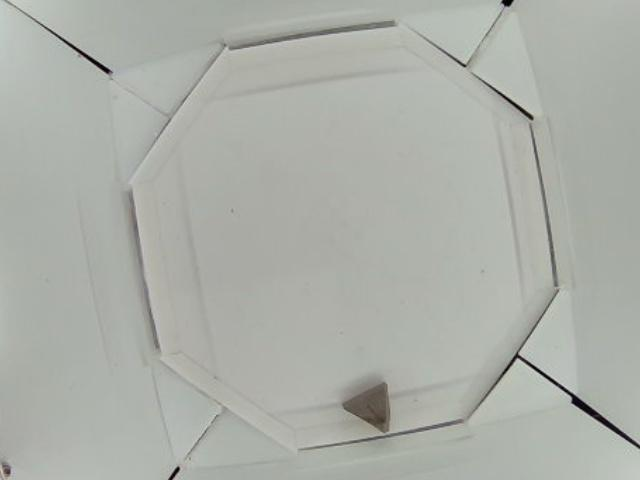China: (341, 380, 392, 435)
